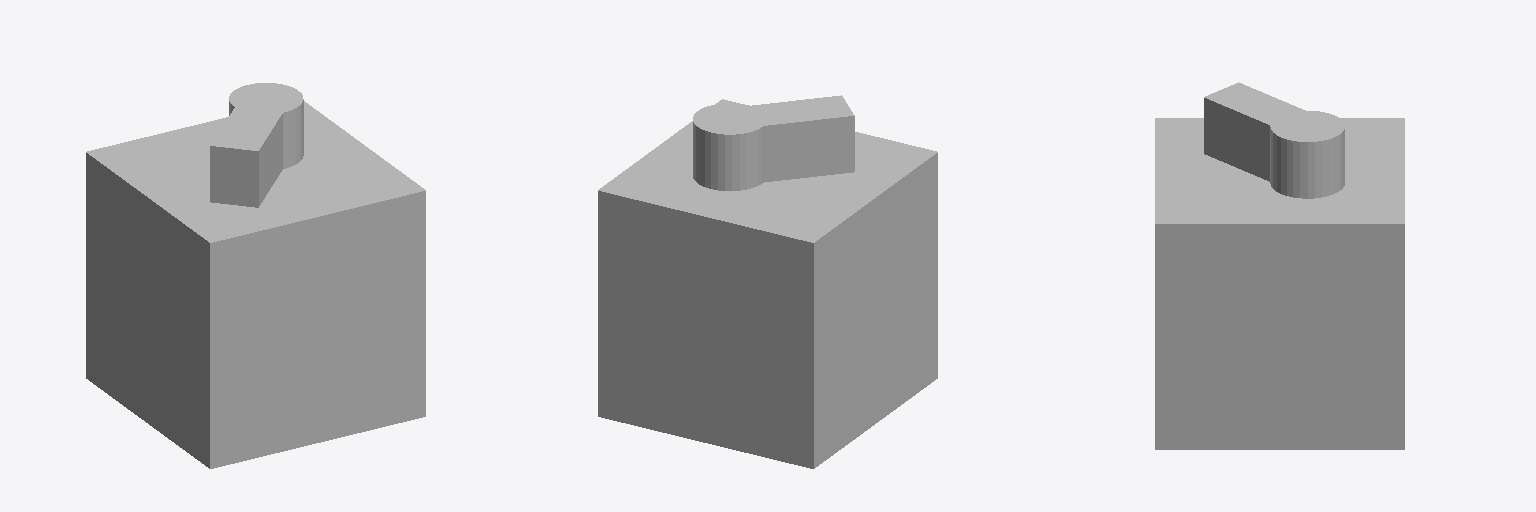
The model's file is Key_cube_cap_rotated45_preprocessed.obj.
The picture shows the model from 3 angles: view 1: azimuth 30°, elevation 25°; view 2: azimuth 150°, elevation 25°; view 3: azimuth 270°, elevation 25°; orthographic projection.
Bounding box in the file's own units: 0.08 × 0.1 × 0.08.